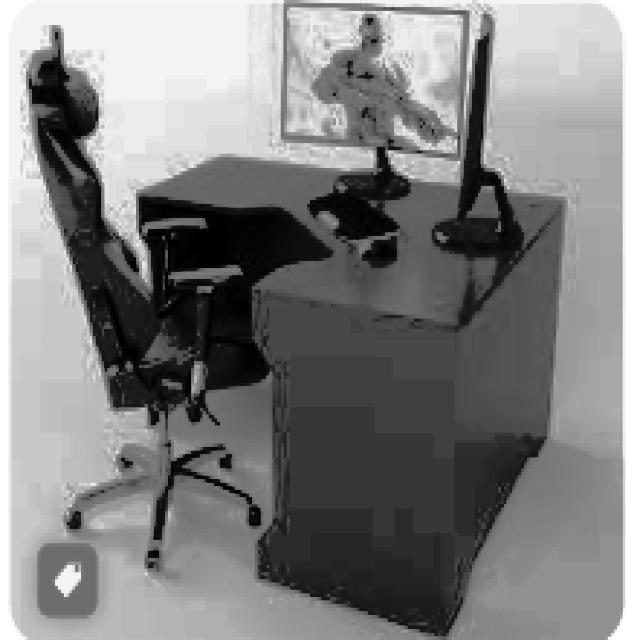book: (26, 22, 264, 572)
table: (133, 150, 565, 637)
